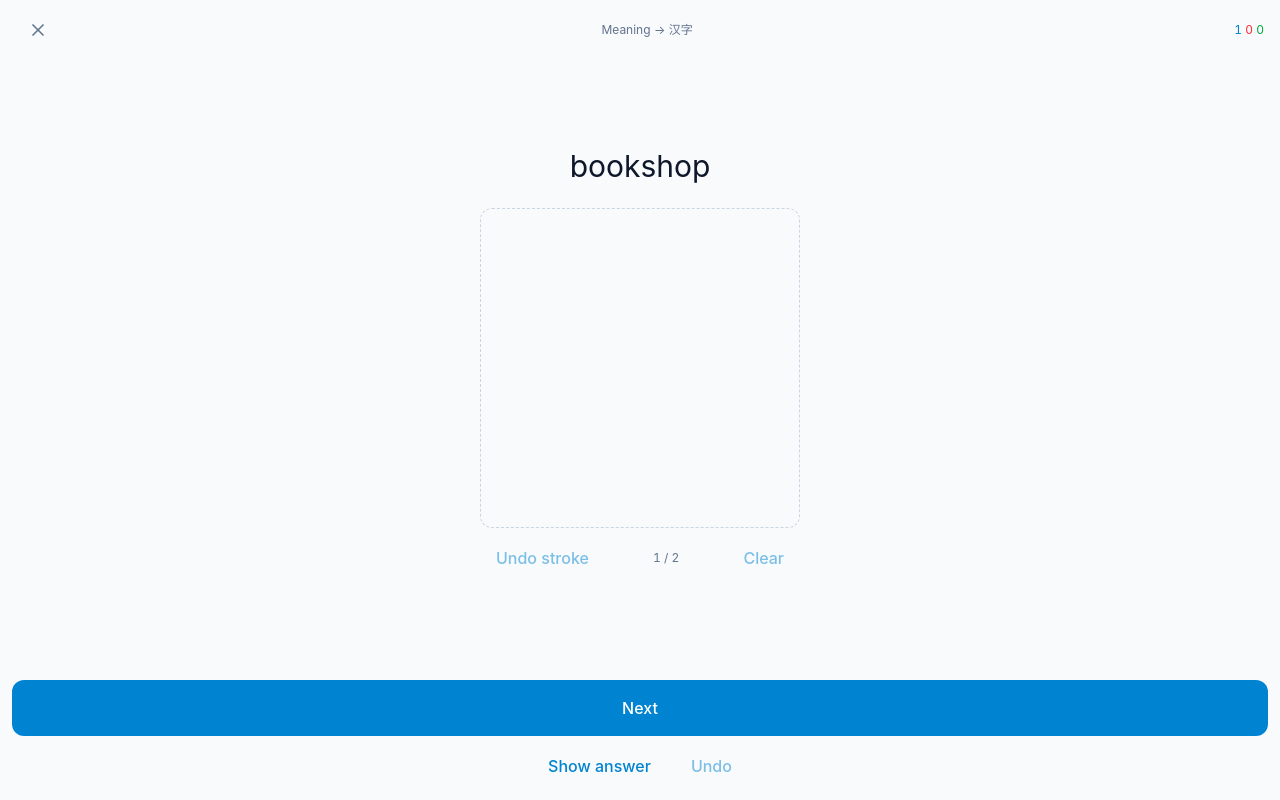
Test: StudyPage › writing cards › advances through the characters before offering the answer
What coordinates should you click on to do the following:
click the button "Next"
I would click on:
 (640, 708)
Its box is [12,680,1268,736].
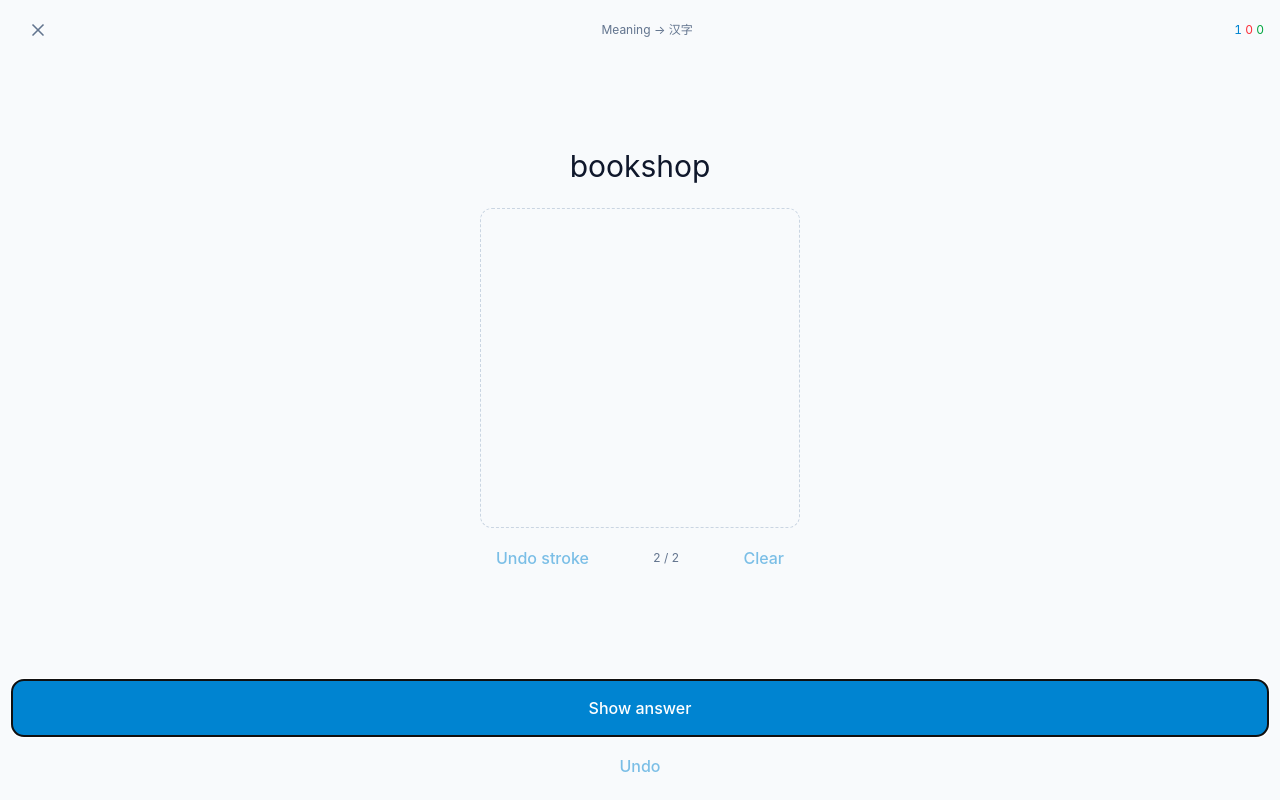
Expected: the text with test id "writing-progress" reads "2 / 2", [653,550,679,566]
Expected: the button "Show answer" is shown, [12,680,1268,736]
Expected: the button "Next" is gone
